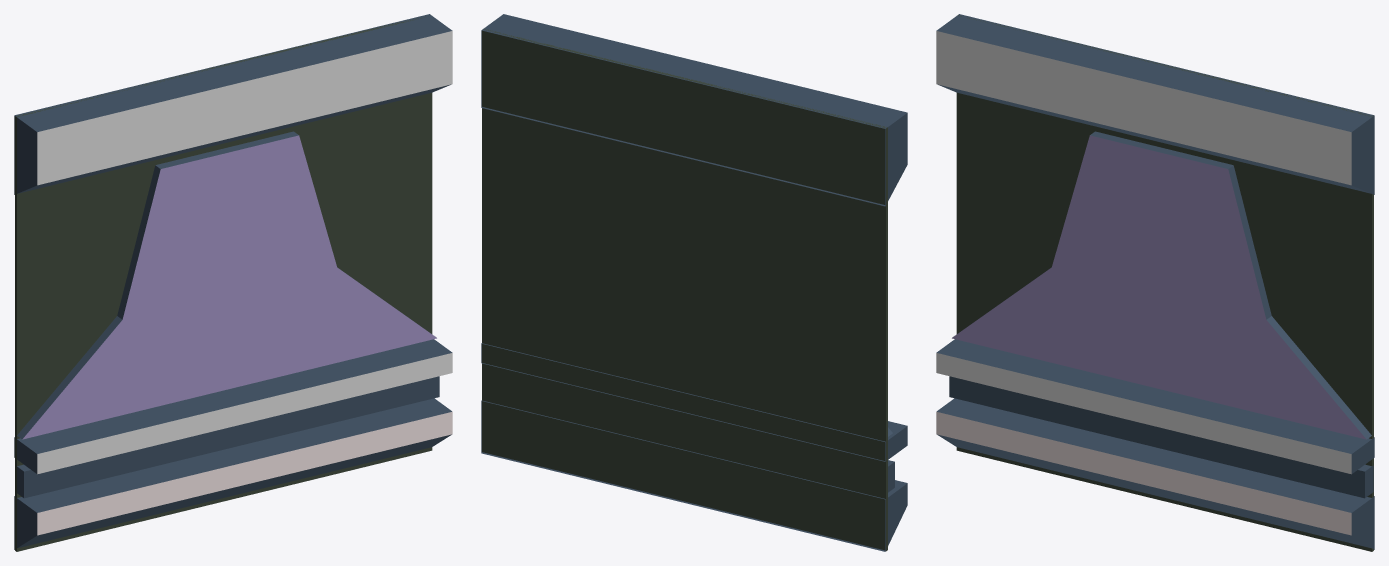
The model's file is Environment_Wall_1.fbx.
The picture shows the model from 3 angles, left to right: view 1: azimuth 30°, elevation 25°; view 2: azimuth 150°, elevation 25°; view 3: azimuth 330°, elevation 25°; orthographic projection. The views are drawn at different scales.
Visible parts, largest first — view 1: Wall_1; view 2: Wall_1; view 3: Wall_1.
Part boxes in pixels (x1=…): Wall_1: x1=14, y1=14, x2=452, y2=551; Wall_1: x1=481, y1=14, x2=907, y2=551; Wall_1: x1=936, y1=14, x2=1374, y2=551.
Size of the model in its own units: 400 by 400 by 38.42.
